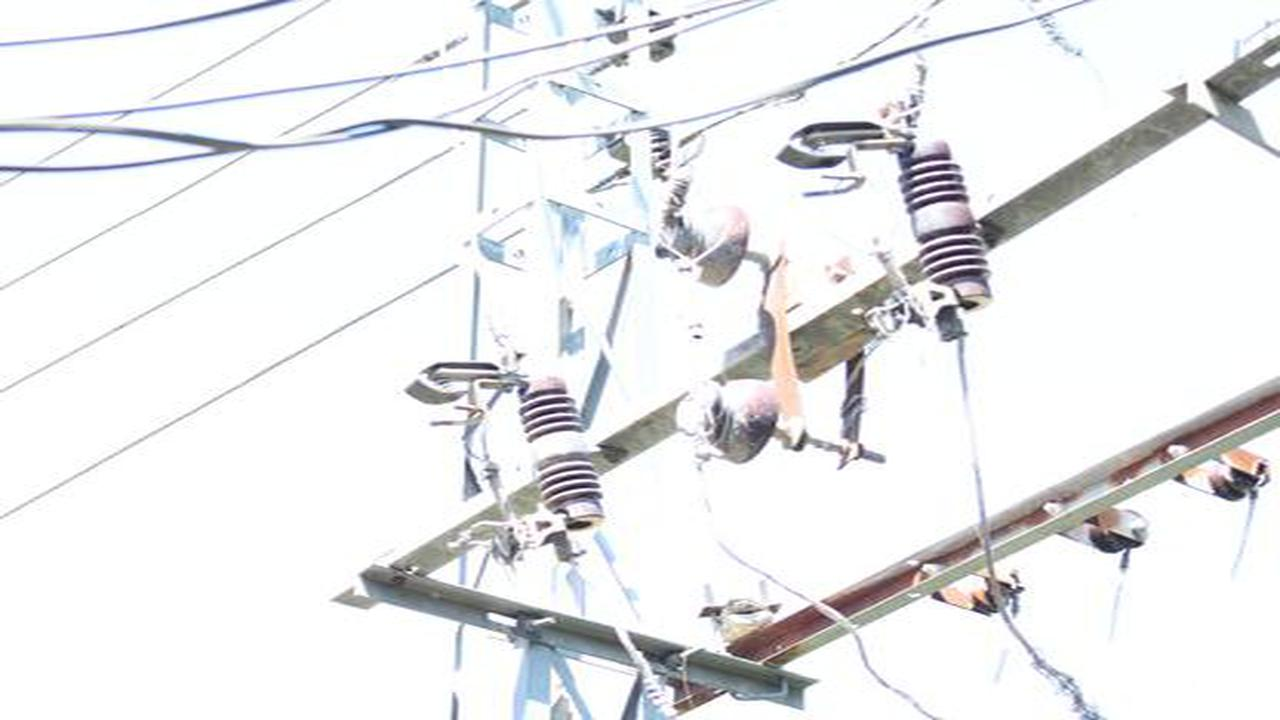insulator_pin: (673, 368, 781, 466), (647, 193, 753, 291)
